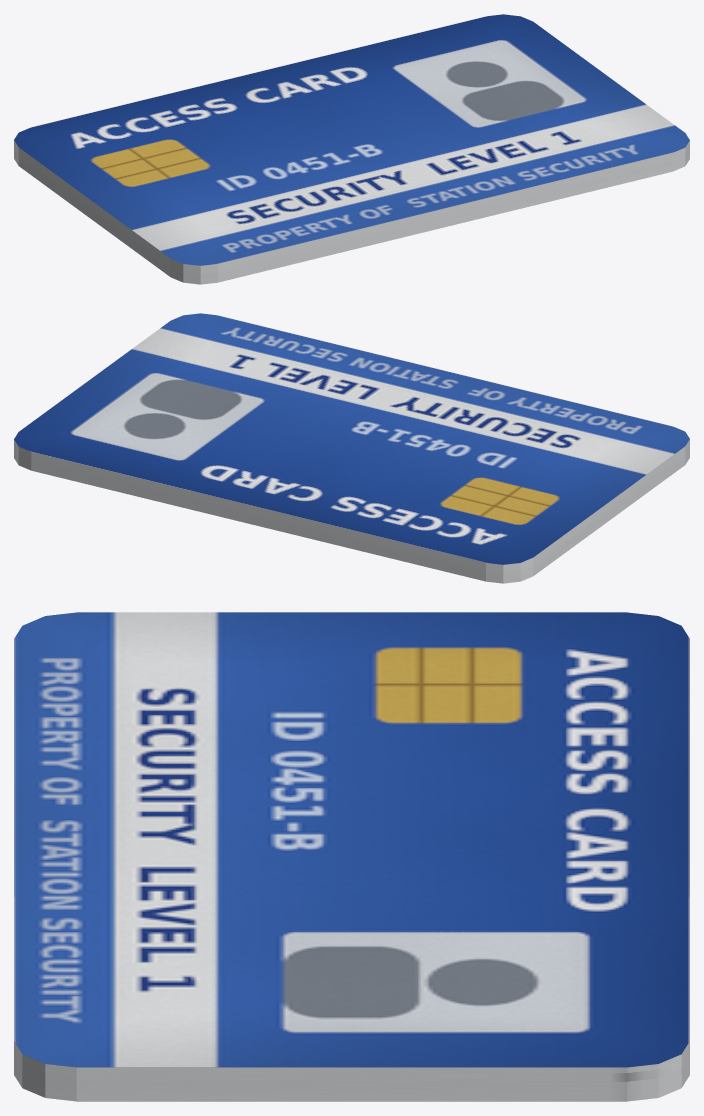
The model's file is SM_Keycard.fbx.
3 renders of one model, top to bottom at view 1: azimuth 30°, elevation 25°; view 2: azimuth 150°, elevation 25°; view 3: azimuth 270°, elevation 25°, orthographic. The views are drawn at different scales.
Parts seen in each view (by area): view 1: SM_Keycard; view 2: SM_Keycard; view 3: SM_Keycard.
Part boxes in pixels (box(x1,y1,x2,y2)): SM_Keycard: box(14, 14, 689, 284); SM_Keycard: box(14, 313, 689, 583); SM_Keycard: box(14, 612, 689, 1101).
Bounding box in the file's own units: 0.086 × 0.003 × 0.054.
Materials: 1 (1 with a texture image).
